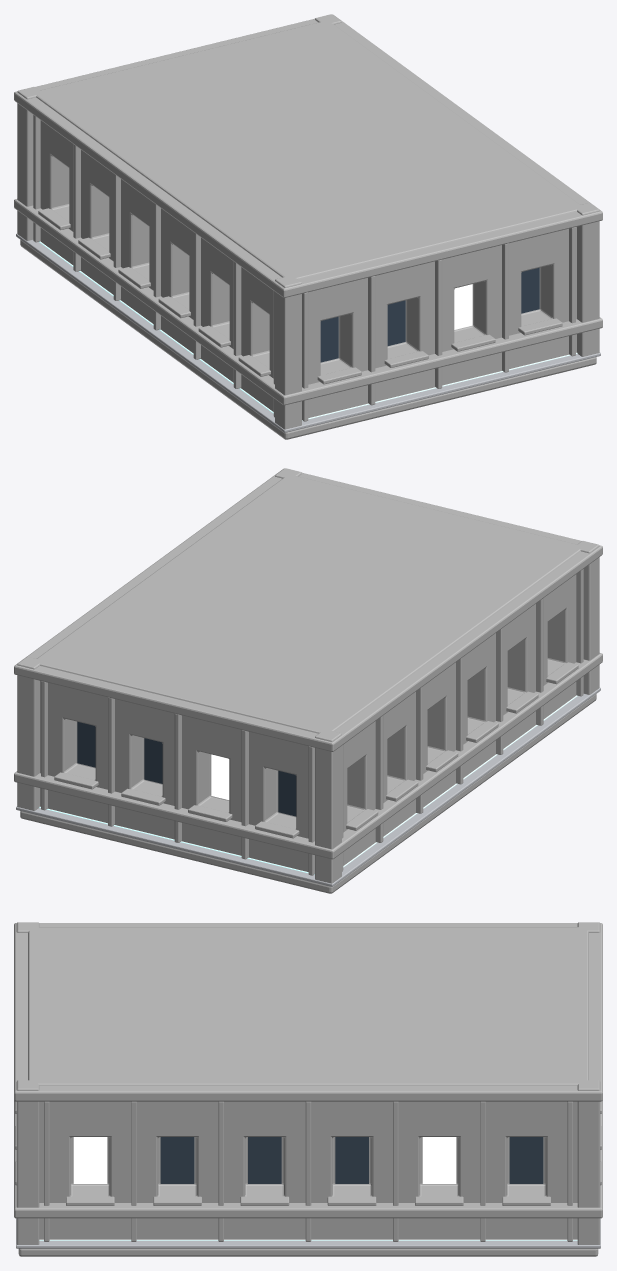
Rendered from concrete_4x6.glb.
The picture shows the model from 3 angles, top to bottom: view 1: azimuth 30°, elevation 25°; view 2: azimuth 150°, elevation 25°; view 3: azimuth 270°, elevation 25°; orthographic projection. The views are drawn at different scales.
Parts seen in each view (by area): view 1: int_ceiling, ext_wall, ext_ledge_top, ext_frames, int_columns, ext_ledge_mid, int_slab_edge, int_slab, ext_panes_dark, int_grid, ext_panes_lit; view 2: int_ceiling, ext_wall, ext_ledge_top, ext_frames, int_columns, ext_ledge_mid, int_slab_edge, int_slab, ext_panes_dark, int_grid, ext_panes_lit; view 3: int_ceiling, ext_wall, ext_ledge_top, ext_frames, ext_ledge_mid, int_columns, ext_panes_dark, int_slab, int_slab_edge, ext_panes_lit, int_grid.
Part boxes in pixels (x1=…): int_ceiling: x1=36, y1=20, x2=582, y2=279; ext_wall: x1=40, y1=120, x2=576, y2=417; ext_ledge_top: x1=14, y1=14, x2=602, y2=297; ext_frames: x1=33, y1=115, x2=575, y2=421; int_columns: x1=17, y1=14, x2=599, y2=429; ext_ledge_mid: x1=14, y1=199, x2=602, y2=405; int_slab_edge: x1=16, y1=233, x2=600, y2=432; int_slab: x1=20, y1=240, x2=596, y2=439; ext_panes_dark: x1=320, y1=267, x2=539, y2=362; int_grid: x1=39, y1=241, x2=577, y2=420; ext_panes_lit: x1=454, y1=284, x2=472, y2=329; int_ceiling: x1=33, y1=475, x2=582, y2=733; ext_wall: x1=40, y1=574, x2=576, y2=871; ext_ledge_top: x1=14, y1=468, x2=602, y2=751; ext_frames: x1=41, y1=569, x2=583, y2=875; int_columns: x1=17, y1=468, x2=599, y2=883; ext_ledge_mid: x1=14, y1=653, x2=602, y2=859; int_slab_edge: x1=16, y1=687, x2=600, y2=886; int_slab: x1=20, y1=694, x2=596, y2=893; ext_panes_dark: x1=77, y1=721, x2=296, y2=816; int_grid: x1=39, y1=695, x2=577, y2=874; ext_panes_lit: x1=211, y1=754, x2=229, y2=799; int_ceiling: x1=28, y1=927, x2=588, y2=1085; ext_wall: x1=39, y1=1101, x2=577, y2=1239; ext_ledge_top: x1=14, y1=923, x2=602, y2=1101; ext_frames: x1=15, y1=1101, x2=601, y2=1241; ext_ledge_mid: x1=14, y1=1100, x2=602, y2=1218; int_columns: x1=16, y1=922, x2=600, y2=1244; ext_panes_dark: x1=160, y1=1137, x2=543, y2=1183; int_slab: x1=18, y1=1248, x2=598, y2=1256; int_slab_edge: x1=16, y1=1218, x2=600, y2=1248; ext_panes_lit: x1=73, y1=1137, x2=456, y2=1183; int_grid: x1=39, y1=1239, x2=577, y2=1240.
Size of the model in its own units: 4.3 by 2 by 6.3.
